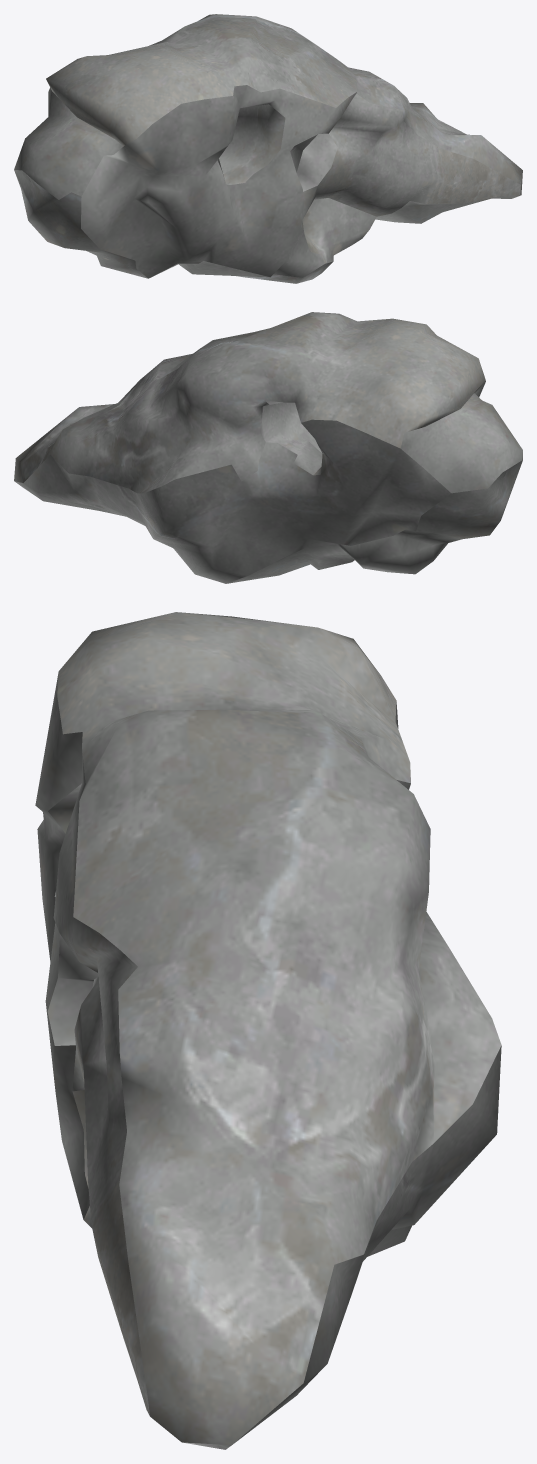
The model's file is SM_Com_Roc_30AS.fbx.
3 renders of one model, top to bottom at view 1: azimuth 30°, elevation 25°; view 2: azimuth 150°, elevation 25°; view 3: azimuth 270°, elevation 25°, orthographic. The views are drawn at different scales.
Visible parts, largest first — view 1: SM_Com_Roc_30AS.mo; view 2: SM_Com_Roc_30AS.mo; view 3: SM_Com_Roc_30AS.mo.
Part boxes in pixels (x1,y1,x2,y2): SM_Com_Roc_30AS.mo: (14, 14, 522, 283); SM_Com_Roc_30AS.mo: (14, 312, 522, 583); SM_Com_Roc_30AS.mo: (35, 612, 501, 1449).
Size of the model in its own units: 6.8 by 3.36 by 2.78.
